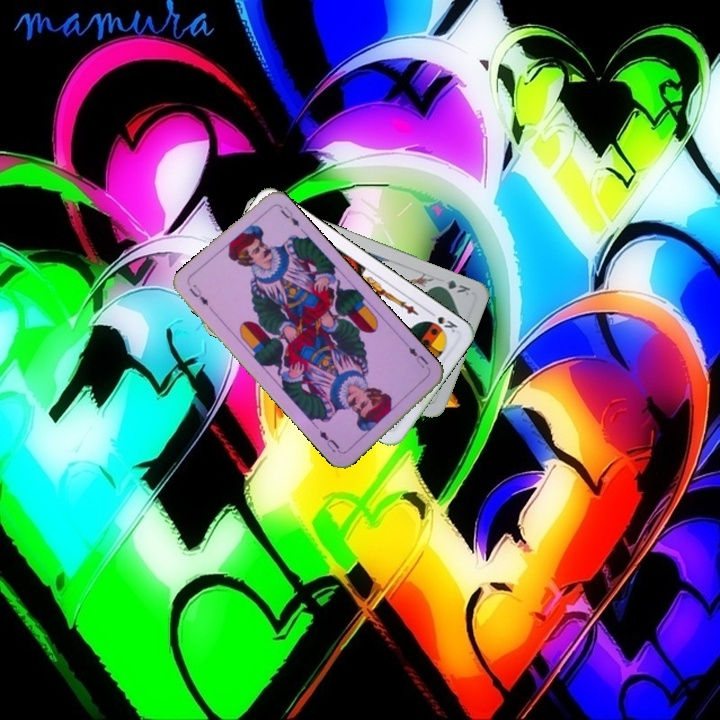EU: (185, 280, 216, 315), (402, 339, 431, 371)
GK: (433, 276, 473, 298)
SK: (424, 306, 460, 336)
